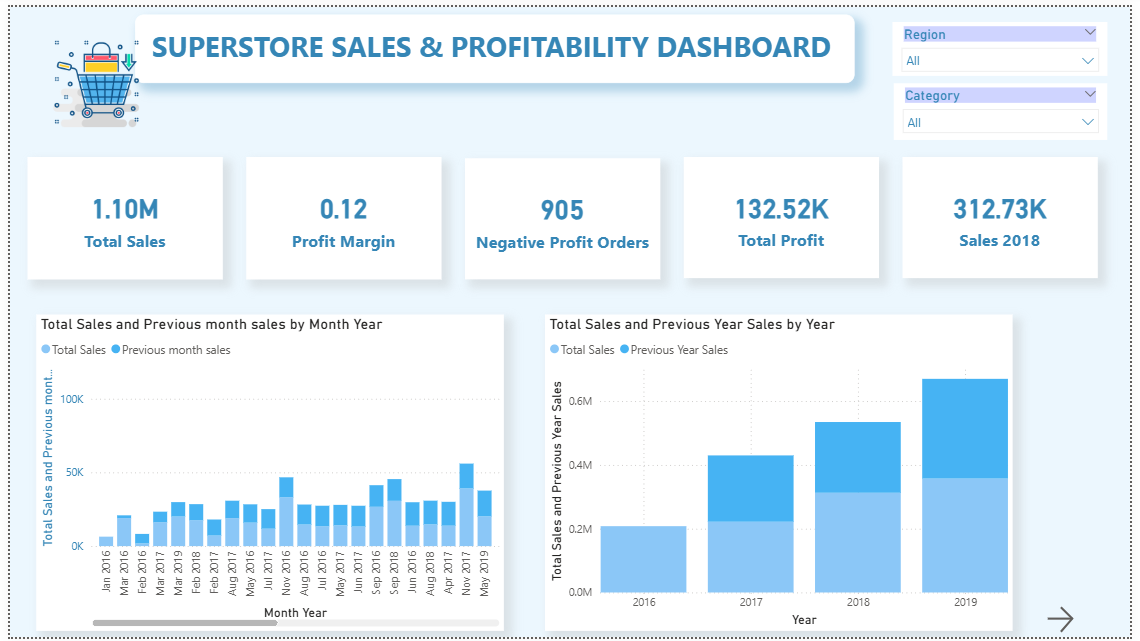

Layout of this report page (visuals, bound fields, positions):
{"tool":"powerbi","page":{"name":"DashBoard","canvas":[1280,720],"ordinal":0},"visuals":[{"type":"textbox","box":[142.5,8.8,822.5,78.8],"z":0},{"type":"slicer","fields":{"Values":["Orders.Region"]},"box":[1008.6,16.5,245.6,61.7],"z":1000},{"type":"slicer","fields":{"Values":["Orders.Category"]},"box":[1010,86.4,244.3,64.5],"z":2000},{"type":"card","fields":{"Values":["Orders.Total Sales"]},"box":[20,171.4,222.9,140],"z":3000},{"type":"card","fields":{"Values":["Orders.Total Profit"]},"box":[770,171.4,222.9,138.6],"z":4000},{"type":"card","fields":{"Values":["Orders.Negative Profit Orders"]},"box":[520,172.9,222.9,138.6],"z":5000},{"type":"card","fields":{"Values":["Orders.Profit Margin"]},"box":[270,171.4,222.9,140],"z":6000},{"type":"actionButton","box":[1180,680,100,40],"z":9000},{"type":"image","box":[42.9,35.7,111.4,101.4],"z":9001},{"type":"columnChart","fields":{"Y":["Orders.Total Sales","Orders.Previous month sales"],"Category":["Datetable.Month Year"]},"box":[30,351.4,534.3,361.4],"z":9002},{"type":"columnChart","fields":{"Y":["Orders.Total Sales","Orders.Previous Year Sales"],"Category":["Datetable.Year"]},"box":[611.4,351.4,534.3,361.4],"z":9003},{"type":"card","fields":{"Values":["Orders.Sales 2018"]},"box":[1020,171.4,222.9,138.6],"z":9004}]}

Visuals, with their boxes in screenshot pixels (x1, y1, x2, y2), scaled from the page's 1280x720 canvas onto the 1140x641 screenshot:
textbox: <bbox>127, 8, 859, 78</bbox>
slicer - Orders.Region: <bbox>898, 15, 1117, 70</bbox>
slicer - Orders.Category: <bbox>900, 77, 1117, 134</bbox>
card - Orders.Total Sales: <bbox>18, 153, 216, 277</bbox>
card - Orders.Total Profit: <bbox>686, 153, 884, 276</bbox>
card - Orders.Negative Profit Orders: <bbox>463, 154, 662, 277</bbox>
card - Orders.Profit Margin: <bbox>240, 153, 439, 277</bbox>
actionButton: <bbox>1051, 605, 1139, 640</bbox>
image: <bbox>38, 32, 137, 122</bbox>
columnChart - Orders.Total Sales x Orders.Previous month sales: <bbox>27, 313, 503, 635</bbox>
columnChart - Orders.Total Sales x Orders.Previous Year Sales: <bbox>545, 313, 1020, 635</bbox>
card - Orders.Sales 2018: <bbox>908, 153, 1107, 276</bbox>
